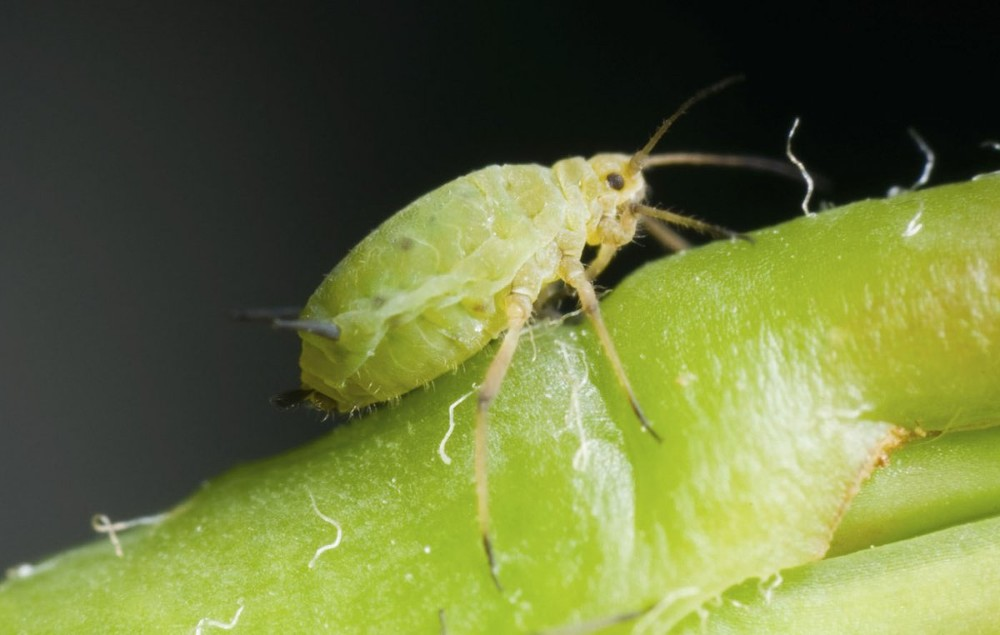Pulgon: (256, 40, 757, 541)
